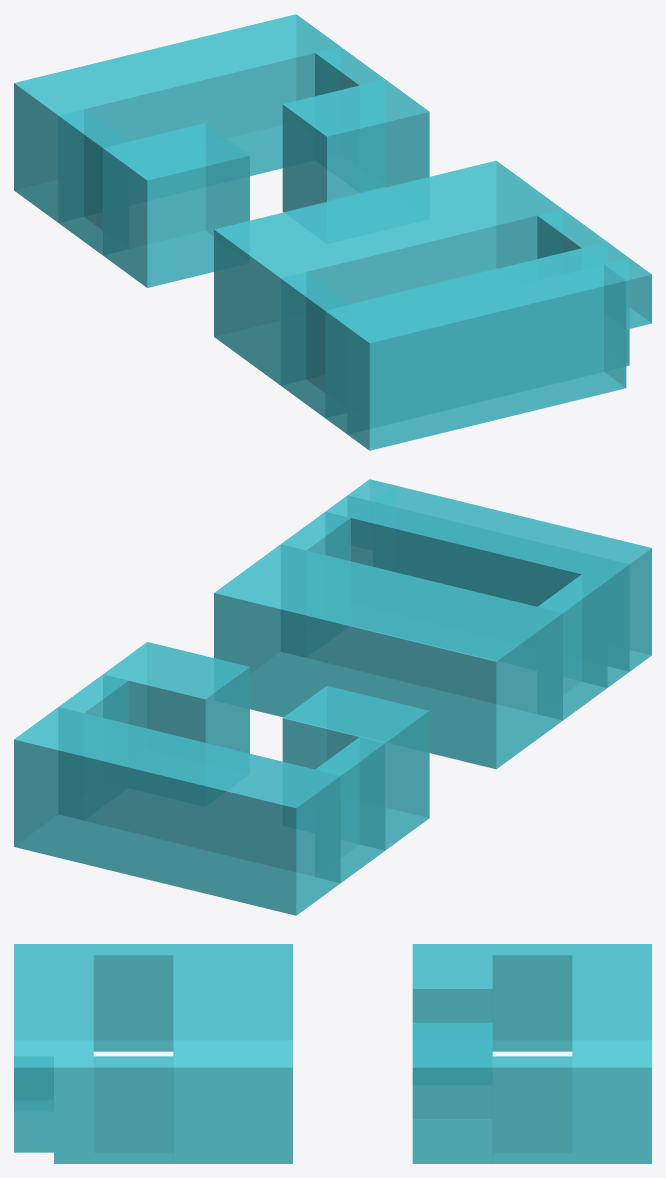
The model's file is door3_safe_local.glb.
3 renders of one model, top to bottom at view 1: azimuth 30°, elevation 25°; view 2: azimuth 150°, elevation 25°; view 3: azimuth 270°, elevation 25°, orthographic. The views are drawn at different scales.
Visible parts, largest first — view 1: cell_union_6, cell_union_10, cell_union_1, cell_union_4, cell_union_5, cell_union_9, cell_union_3, cell_union_8, cell_union_7, cell_union_2, cell_union_0; view 2: cell_union_6, cell_union_1, cell_union_10, cell_union_9, cell_union_4, cell_union_5, cell_union_8, cell_union_3, cell_union_2, cell_union_7, cell_union_0; view 3: cell_union_6, cell_union_1, cell_union_5, cell_union_9, cell_union_8, cell_union_7, cell_union_3, cell_union_2, cell_union_10, cell_union_4, cell_union_0.
Boxes of the visible parts, left/top/right/bottom form: cell_union_6: left=214, top=160, right=562, bottom=385; cell_union_10: left=347, top=264, right=626, bottom=450; cell_union_1: left=14, top=14, right=340, bottom=222; cell_union_4: left=103, top=123, right=249, bottom=287; cell_union_5: left=282, top=79, right=429, bottom=212; cell_union_9: left=325, top=242, right=629, bottom=434; cell_union_3: left=58, top=109, right=128, bottom=255; cell_union_8: left=280, top=272, right=350, bottom=417; cell_union_7: left=537, top=209, right=606, bottom=268; cell_union_2: left=315, top=46, right=384, bottom=188; cell_union_0: left=604, top=258, right=651, bottom=329; cell_union_6: left=214, top=544, right=562, bottom=769; cell_union_1: left=14, top=707, right=340, bottom=915; cell_union_10: left=373, top=485, right=651, bottom=671; cell_union_9: left=325, top=495, right=629, bottom=687; cell_union_4: left=282, top=685, right=429, bottom=850; cell_union_5: left=103, top=642, right=249, bottom=753; cell_union_8: left=537, top=574, right=607, bottom=720; cell_union_3: left=315, top=737, right=385, bottom=882; cell_union_2: left=58, top=674, right=128, bottom=819; cell_union_7: left=281, top=511, right=350, bottom=656; cell_union_0: left=347, top=479, right=394, bottom=549; cell_union_6: left=173, top=944, right=292, bottom=1163; cell_union_1: left=572, top=944, right=651, bottom=1163; cell_union_5: left=412, top=1022, right=492, bottom=1163; cell_union_9: left=54, top=944, right=93, bottom=1163; cell_union_8: left=93, top=944, right=173, bottom=1051; cell_union_7: left=93, top=1056, right=173, bottom=1163; cell_union_3: left=492, top=944, right=572, bottom=1051; cell_union_2: left=492, top=1056, right=572, bottom=1163; cell_union_10: left=14, top=944, right=53, bottom=1152; cell_union_4: left=412, top=944, right=492, bottom=1022; cell_union_0: left=14, top=1056, right=53, bottom=1111.
Bounding box in the file's own units: 110 × 40 × 240.
